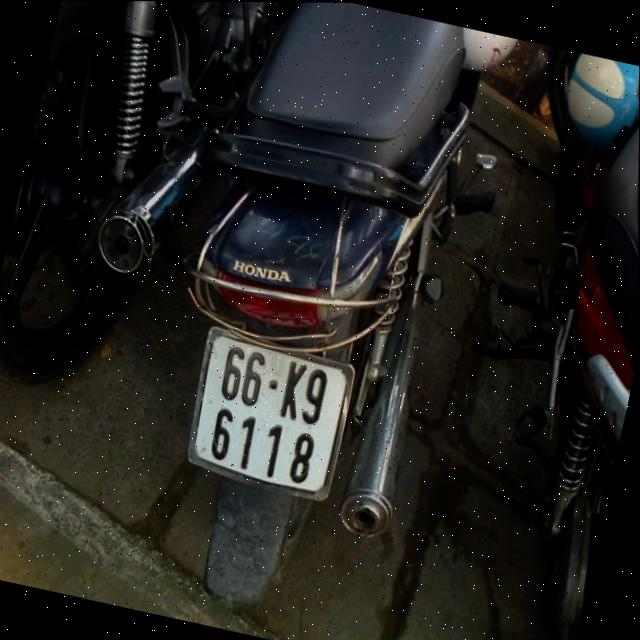motorcycle: (113, 1, 520, 632), (390, 40, 640, 640), (0, 0, 266, 419)
plate: (175, 320, 361, 503)
